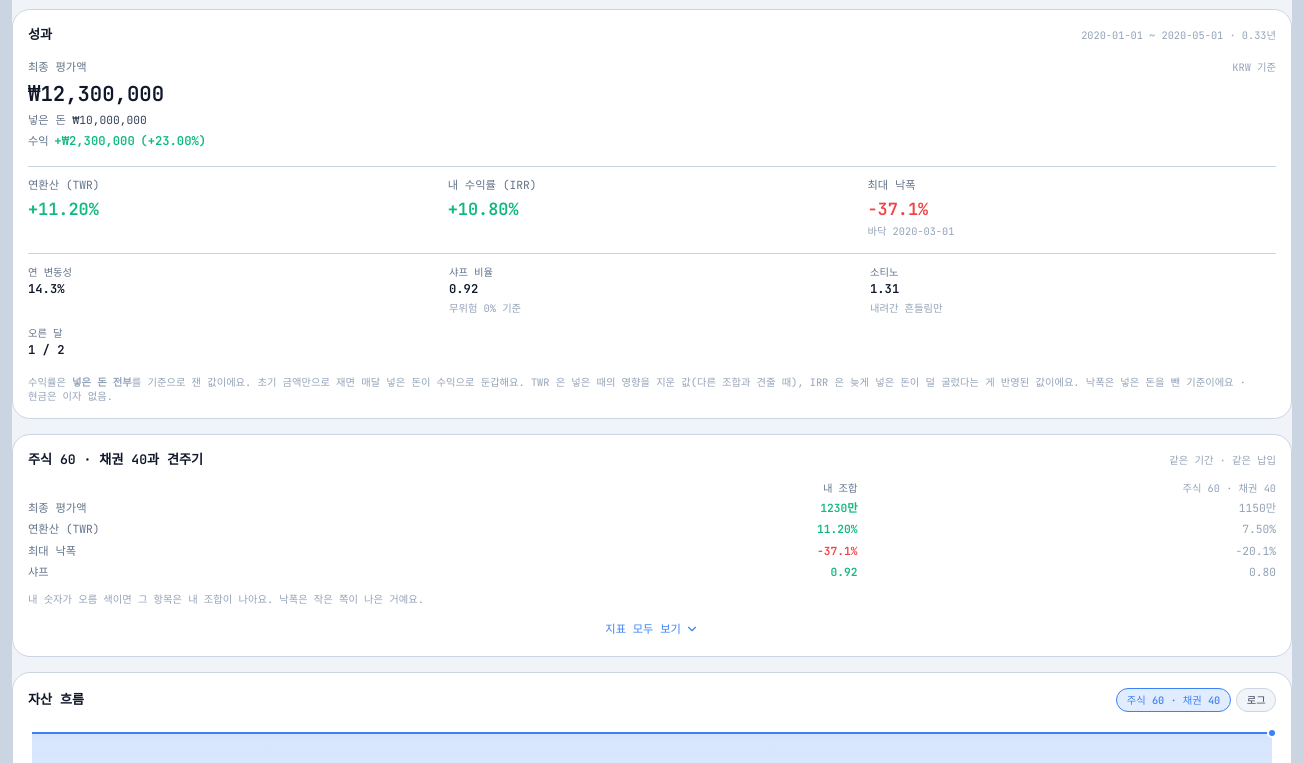
Test: 주요 지표 › 내 것과 벤치마크를 나란히 적는다
This screenshot has width=1304, height=763.
Click the button "지표 모두 보기" at (652, 630), box [605,618,699,641]
(page scrolled)
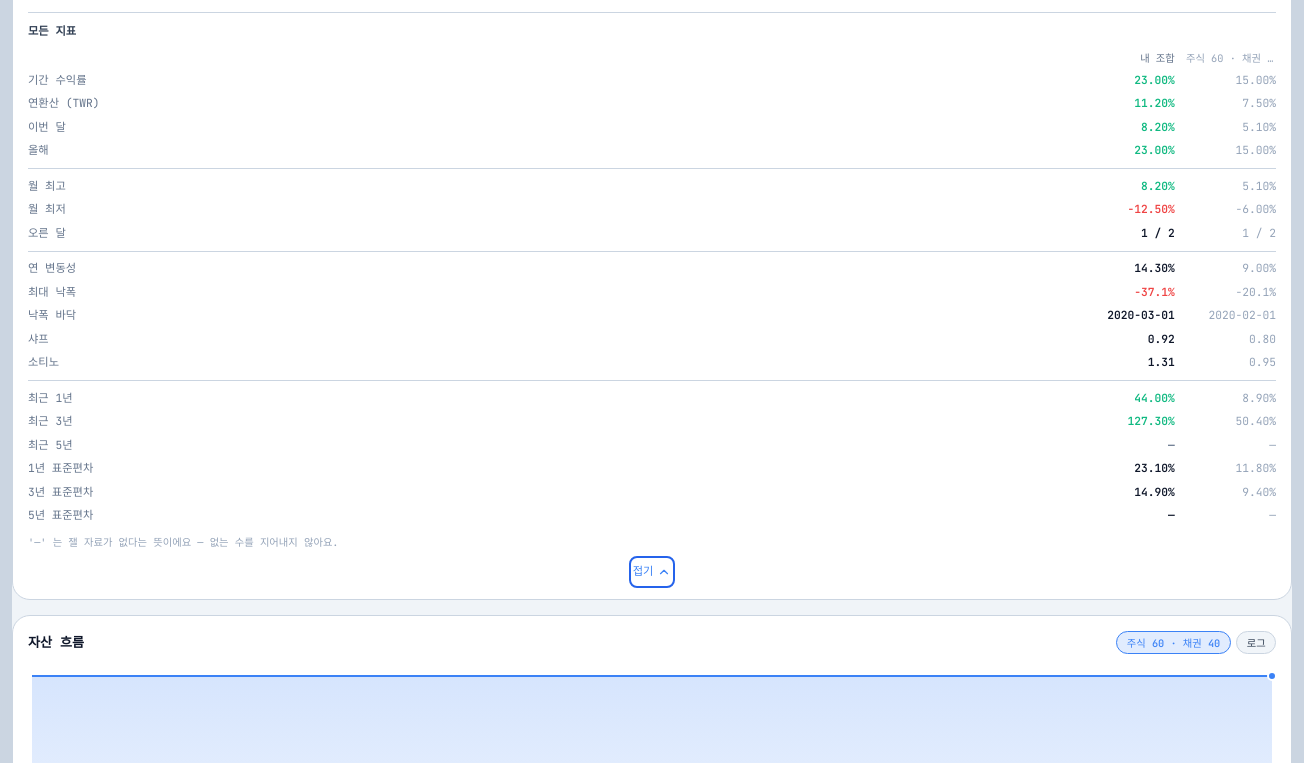
Expected: the text "1.31" is shown, [1148,355,1175,369]
Expected: the text "0.95" is shown, [1249,355,1276,369]
